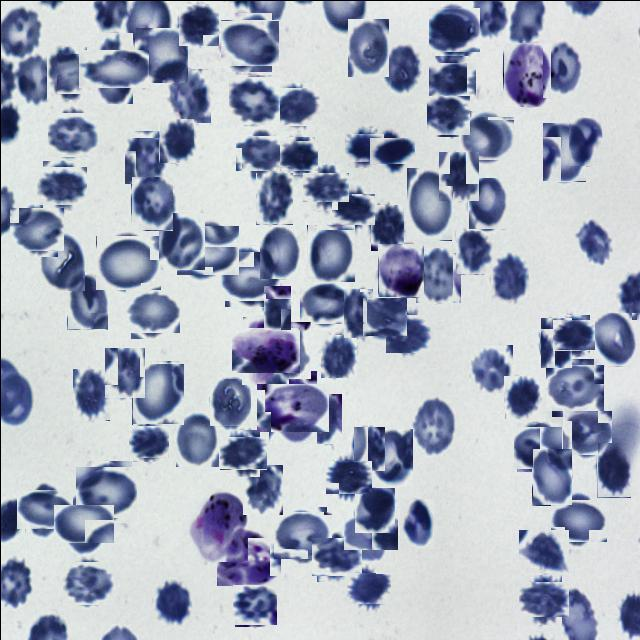difficult: (236, 322, 294, 378), (502, 42, 550, 107)
red blood cell: (97, 232, 157, 292), (131, 359, 183, 424), (405, 167, 451, 240), (77, 463, 134, 519), (179, 222, 235, 278), (221, 248, 276, 303), (86, 40, 140, 95), (134, 27, 187, 82), (276, 508, 329, 562), (306, 224, 354, 282), (410, 397, 458, 455), (222, 16, 274, 68), (548, 361, 600, 413), (38, 232, 84, 290), (158, 212, 204, 269), (541, 122, 585, 181), (414, 247, 460, 303), (552, 494, 602, 544), (58, 498, 108, 548), (228, 75, 278, 125), (461, 113, 511, 162), (370, 428, 412, 486), (123, 130, 168, 184), (175, 410, 218, 466), (127, 286, 176, 335), (11, 204, 60, 253), (268, 321, 310, 378), (347, 18, 388, 76), (592, 312, 636, 366), (166, 68, 210, 122), (20, 485, 68, 533), (48, 110, 96, 158), (562, 408, 610, 456), (64, 558, 112, 606), (430, 6, 478, 54), (531, 448, 571, 505), (130, 176, 172, 230), (14, 52, 56, 106), (66, 274, 107, 329), (542, 41, 582, 97), (258, 226, 300, 279), (43, 49, 90, 96), (300, 278, 348, 324), (518, 529, 568, 572), (103, 347, 144, 398), (514, 424, 560, 469), (490, 250, 528, 304), (437, 150, 478, 200), (467, 177, 506, 229), (470, 344, 512, 392), (242, 464, 282, 514), (313, 534, 358, 578), (39, 163, 84, 207), (71, 368, 109, 420), (210, 378, 252, 425), (348, 511, 392, 555), (255, 172, 292, 224), (151, 578, 191, 626), (596, 442, 630, 497), (382, 42, 420, 91), (304, 393, 341, 443), (274, 84, 316, 128), (238, 132, 282, 174), (232, 582, 276, 624), (574, 220, 614, 266), (354, 487, 394, 532), (522, 578, 564, 620), (386, 312, 428, 354), (363, 294, 405, 336), (176, 3, 218, 44), (399, 498, 433, 548), (431, 59, 472, 100), (428, 94, 468, 136), (454, 230, 492, 274), (567, 117, 601, 166), (539, 317, 571, 368), (158, 118, 194, 163), (222, 432, 262, 472), (328, 457, 368, 497), (503, 375, 539, 419), (320, 334, 356, 377), (370, 204, 403, 250), (342, 288, 372, 338), (349, 569, 387, 607), (334, 190, 372, 228), (306, 168, 344, 206), (352, 426, 384, 471), (555, 316, 592, 354), (130, 422, 167, 459), (373, 132, 409, 168), (262, 285, 290, 330), (346, 130, 380, 164), (282, 138, 316, 172)
trophozoite: (190, 490, 247, 561), (262, 376, 322, 436), (219, 532, 276, 589), (377, 243, 423, 297)
